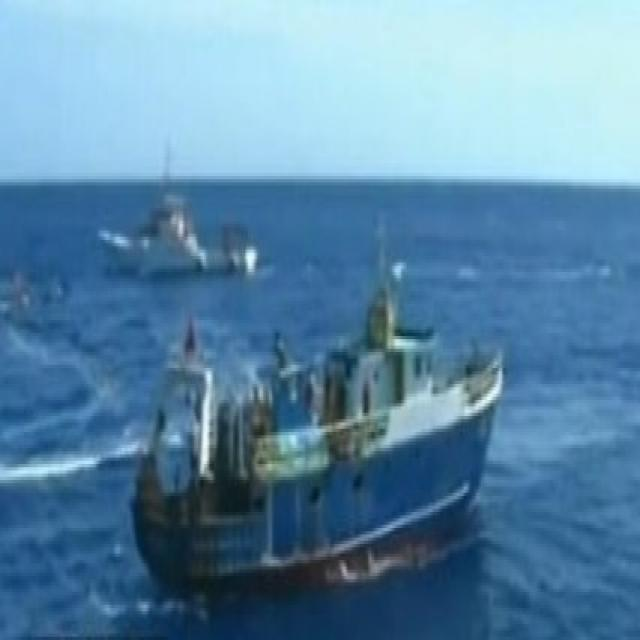Ship: (131, 225, 514, 619)
